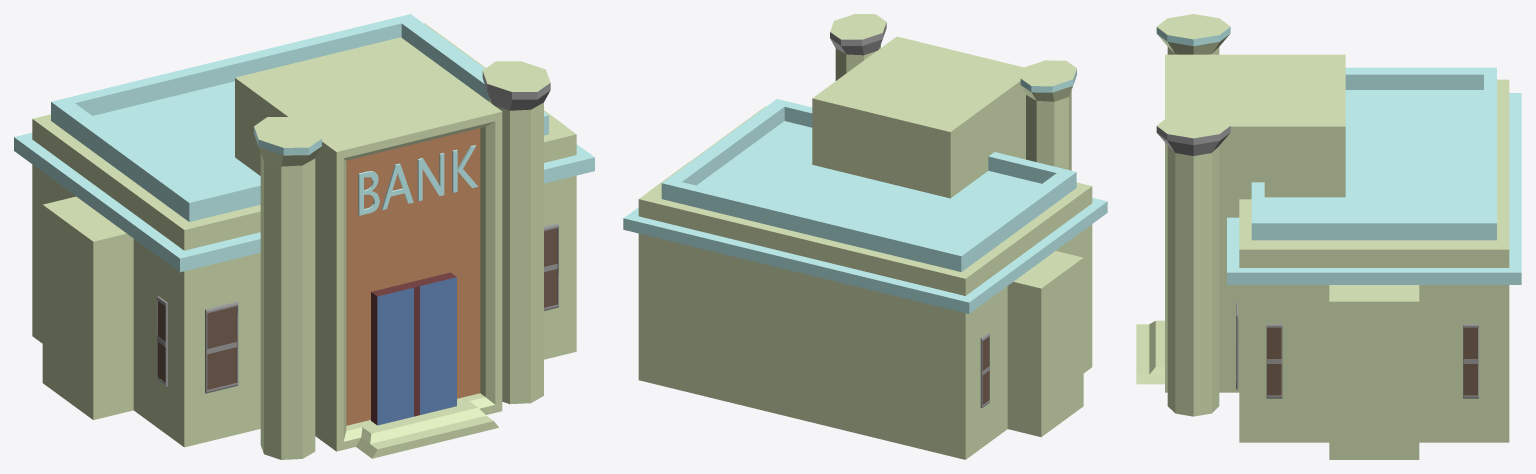
Rendered from Bank.fbx.
3 views of the same model, side by side, from view 1: azimuth 30°, elevation 25°; view 2: azimuth 150°, elevation 25°; view 3: azimuth 270°, elevation 25° (orthographic). The views are drawn at different scales.
Parts seen in each view (by area): view 1: pCube307, pCube308, pCube310, pCylinder90, pCylinder91, pCube311, pCube309, polySurface744, typeMesh1, polySurface749, polySurface745; view 2: pCube308, pCube310, pCube307, pCube309, pCylinder90, pCylinder91, polySurface746; view 3: pCube308, pCube310, pCube307, pCylinder91, pCube309, pCylinder90, polySurface748, polySurface747.
Boxes of the visible parts, x1=… form: pCube307: x1=235, y1=37, x2=502, y2=458; pCube308: x1=32, y1=23, x2=576, y2=447; pCube310: x1=51, y1=14, x2=548, y2=221; pCylinder90: x1=254, y1=117, x2=321, y2=459; pCylinder91: x1=482, y1=61, x2=550, y2=404; pCube311: x1=371, y1=272, x2=456, y2=425; pCube309: x1=14, y1=133, x2=594, y2=272; polySurface744: x1=205, y1=301, x2=238, y2=393; typeMesh1: x1=358, y1=145, x2=477, y2=215; polySurface749: x1=544, y1=223, x2=558, y2=310; polySurface745: x1=157, y1=296, x2=167, y2=386; pCube308: x1=638, y1=106, x2=1092, y2=459; pCube310: x1=661, y1=99, x2=1076, y2=271; pCube307: x1=812, y1=36, x2=1025, y2=198; pCube309: x1=623, y1=198, x2=1107, y2=313; pCylinder90: x1=1020, y1=60, x2=1076, y2=170; pCylinder91: x1=830, y1=14, x2=886, y2=80; polySurface746: x1=980, y1=333, x2=989, y2=408; pCube308: x1=1239, y1=79, x2=1509, y2=459; pCube310: x1=1251, y1=67, x2=1496, y2=240; pCube307: x1=1136, y1=54, x2=1345, y2=392; pCylinder91: x1=1156, y1=113, x2=1230, y2=416; pCube309: x1=1227, y1=93, x2=1521, y2=284; pCylinder90: x1=1156, y1=14, x2=1230, y2=54; polySurface748: x1=1266, y1=324, x2=1282, y2=398; polySurface747: x1=1463, y1=324, x2=1478, y2=398.
Size of the model in its own units: 192 by 123 by 153.
